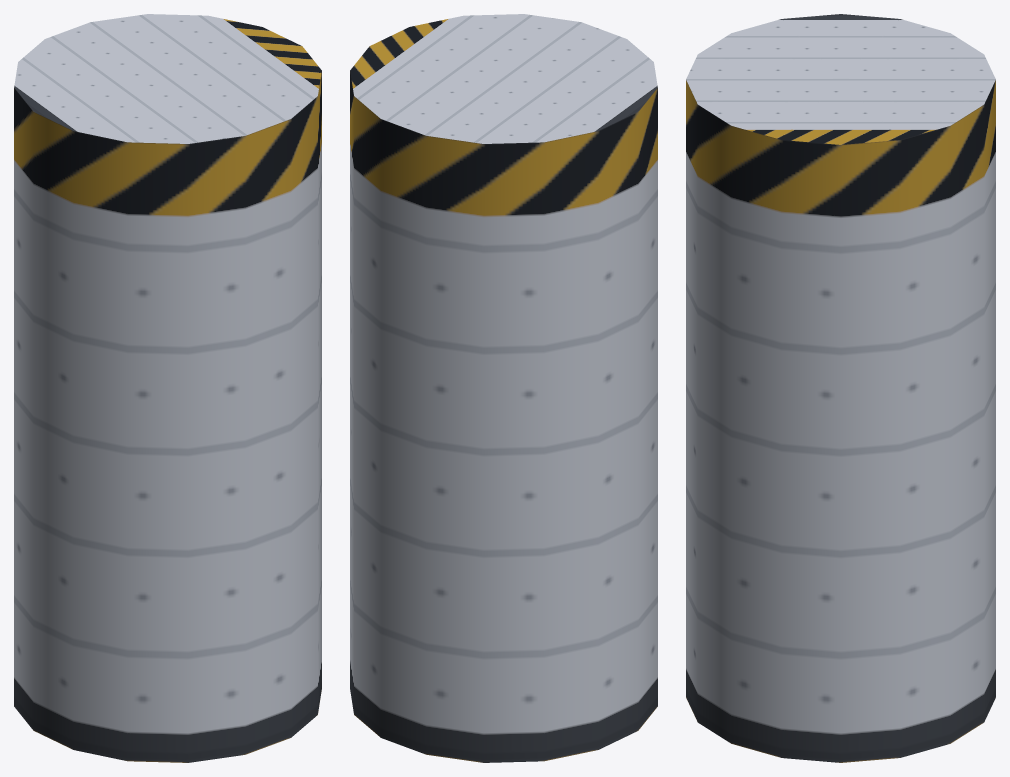
File: srb-med_rt-10-hammer-srb.glb
3 renders of one model, left to right at view 1: azimuth 30°, elevation 25°; view 2: azimuth 150°, elevation 25°; view 3: azimuth 270°, elevation 25°, orthographic.
Parts seen in each view (by area): view 1: RT-10 "Hammer" SRB; view 2: RT-10 "Hammer" SRB; view 3: RT-10 "Hammer" SRB.
Part boxes in pixels (bbox=[...]): RT-10 "Hammer" SRB: bbox=[14, 14, 321, 762]; RT-10 "Hammer" SRB: bbox=[350, 14, 657, 762]; RT-10 "Hammer" SRB: bbox=[686, 14, 995, 762].
Size of the model in its own units: 1 by 2.2 by 1.
1 material, 1 textured.
